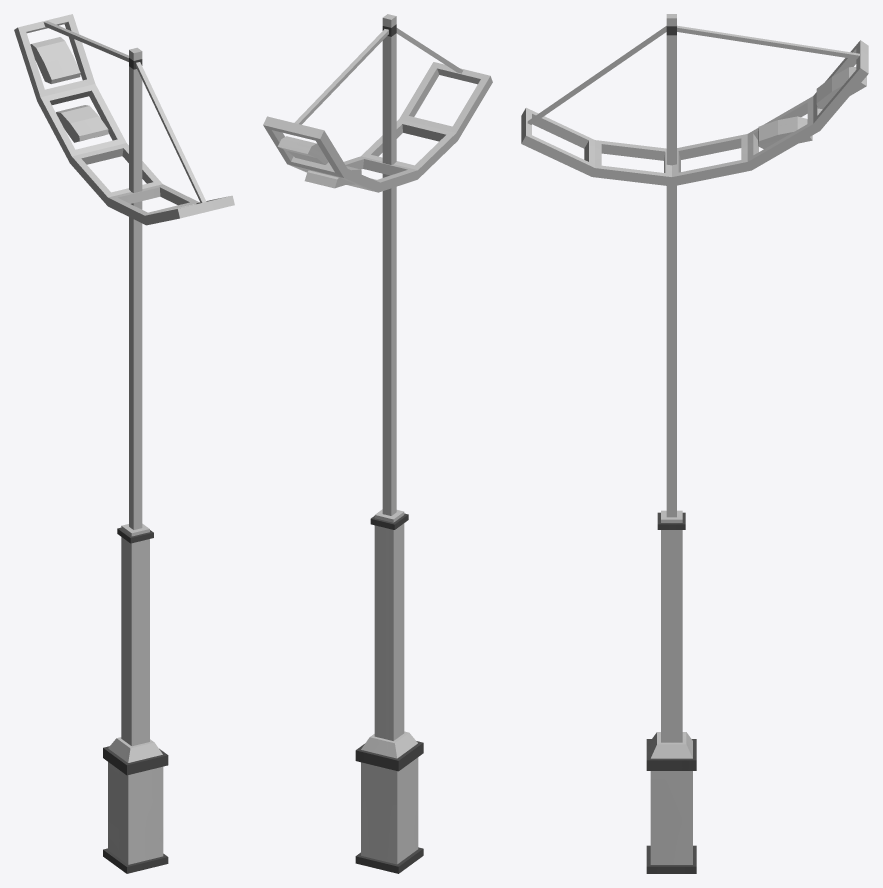
The model's file is Streetlight_v2.fbx.
The picture shows the model from 3 angles, left to right: view 1: azimuth 30°, elevation 25°; view 2: azimuth 150°, elevation 25°; view 3: azimuth 270°, elevation 25°; orthographic projection. The views are drawn at different scales.
Visible parts, largest first — view 1: Streetlight_v2; view 2: Streetlight_v2; view 3: Streetlight_v2.
Part boxes in pixels (x1=…): Streetlight_v2: x1=14, y1=14, x2=234, y2=873; Streetlight_v2: x1=263, y1=14, x2=492, y2=873; Streetlight_v2: x1=521, y1=14, x2=868, y2=873.
Size of the model in its own units: 80.4 by 1133 by 421.
